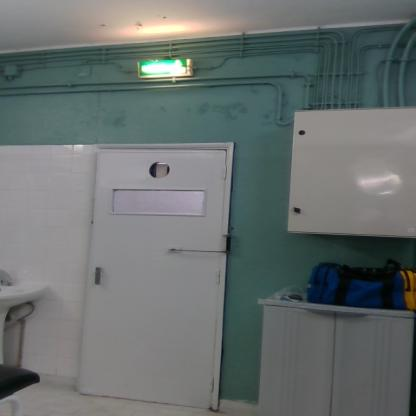closed: (76, 131, 252, 409)
